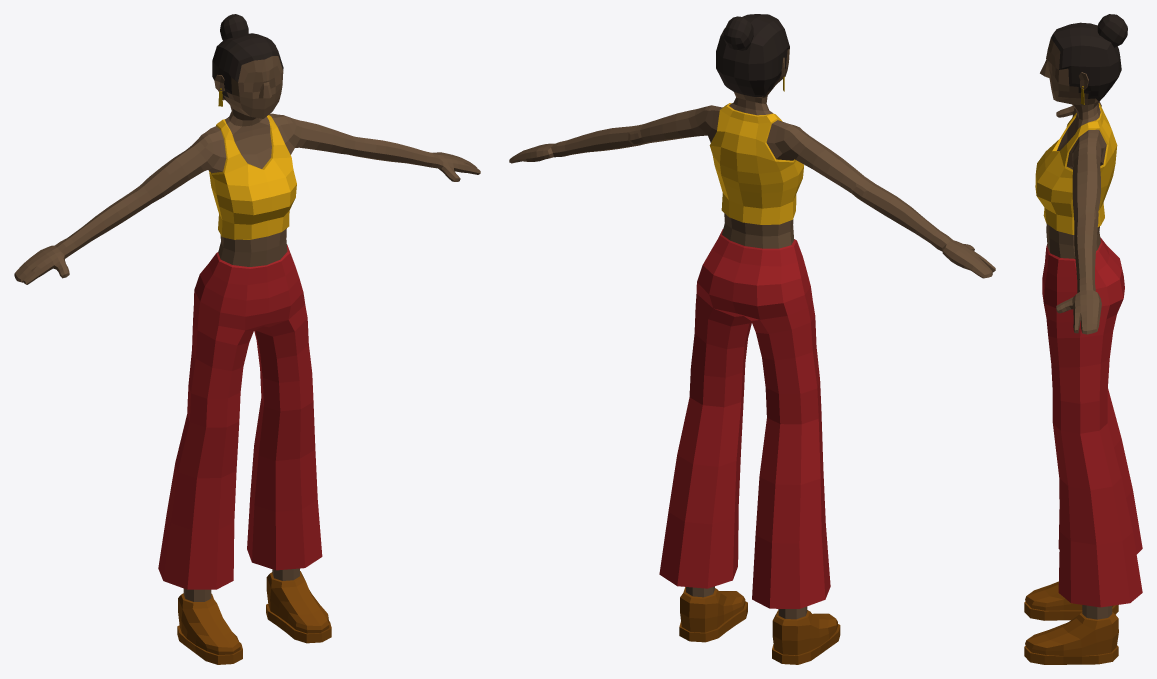
Rendered from joana.fbx.
3 renders of one model, left to right at view 1: azimuth 30°, elevation 25°; view 2: azimuth 150°, elevation 25°; view 3: azimuth 270°, elevation 25°, orthographic. The views are drawn at different scales.
Parts seen in each view (by area): view 1: Joana; view 2: Joana; view 3: Joana.
Part boxes in pixels (x1,y1,x2,y2): Joana: [14, 14, 480, 664]; Joana: [509, 14, 995, 664]; Joana: [1024, 14, 1142, 664].
Size of the model in its own units: 137 by 173 by 30.03.
